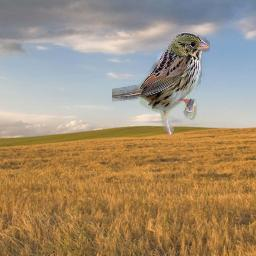Sparrow: (112, 31, 210, 135)
